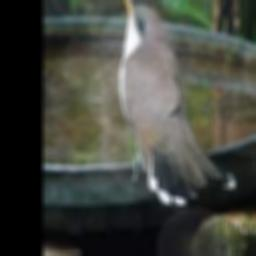Cuckoo: (116, 0, 235, 204)
